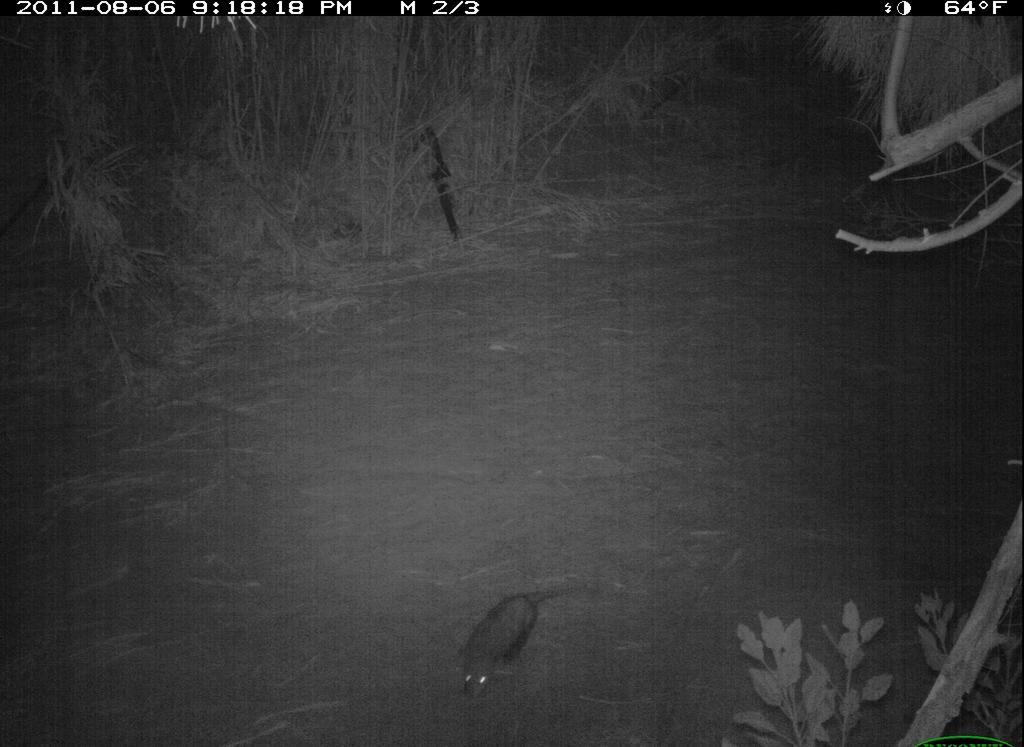opossum: (447, 577, 587, 701)
